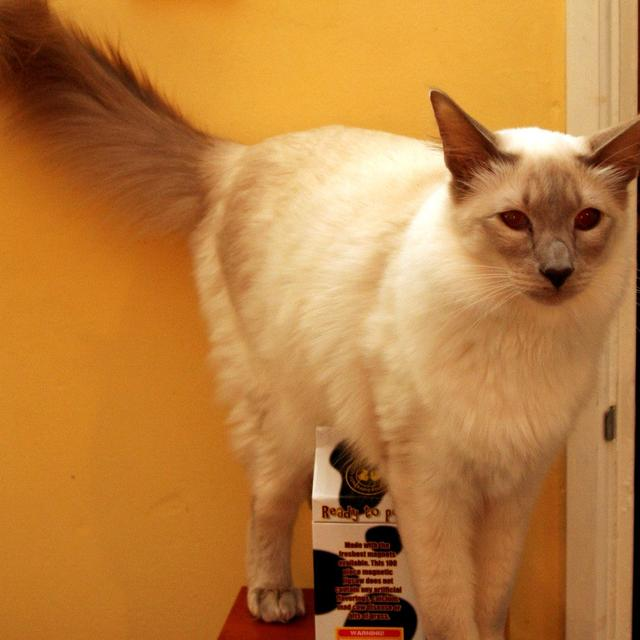animals: (432, 91, 640, 286)
